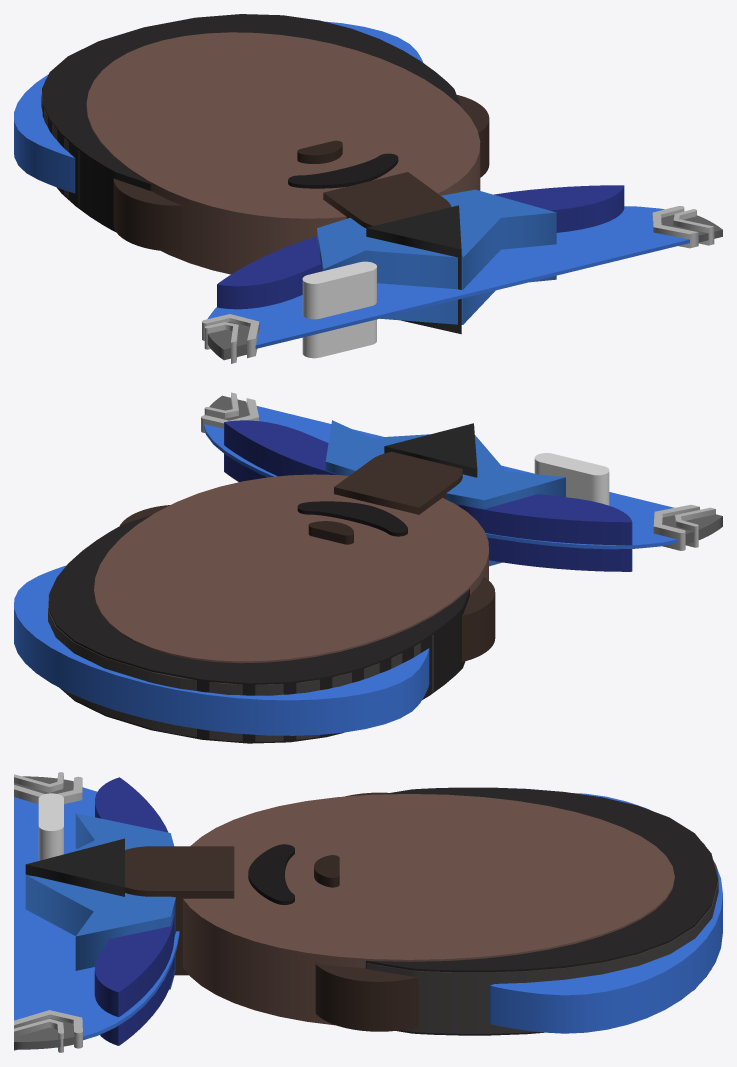
File: emoji_u1f46e_1f3ff_200d_2642.glb
The picture shows the model from 3 angles, top to bottom: view 1: azimuth 30°, elevation 25°; view 2: azimuth 150°, elevation 25°; view 3: azimuth 270°, elevation 25°; orthographic projection. The views are drawn at different scales.
Visible parts, largest first — view 1: emoji_u1f46e_1f3ff_200d_2642; view 2: emoji_u1f46e_1f3ff_200d_2642; view 3: emoji_u1f46e_1f3ff_200d_2642.
Part boxes in pixels (x1,y1,x2,y2): emoji_u1f46e_1f3ff_200d_2642: [14, 14, 722, 363]; emoji_u1f46e_1f3ff_200d_2642: [14, 392, 722, 743]; emoji_u1f46e_1f3ff_200d_2642: [14, 772, 722, 1052].
Bounding box in the file's own units: 0.0295 × 0.0048 × 0.0336.
